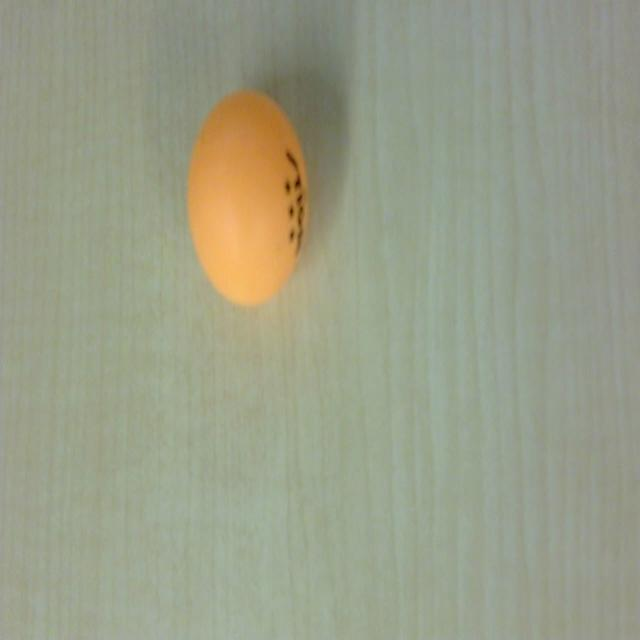ball: (186, 87, 312, 313)
